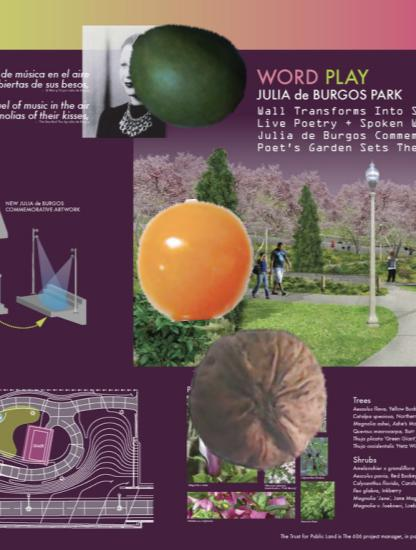Mango: (126, 13, 248, 135)
Physalis: (135, 199, 257, 321)
Walnut: (185, 325, 333, 473)
